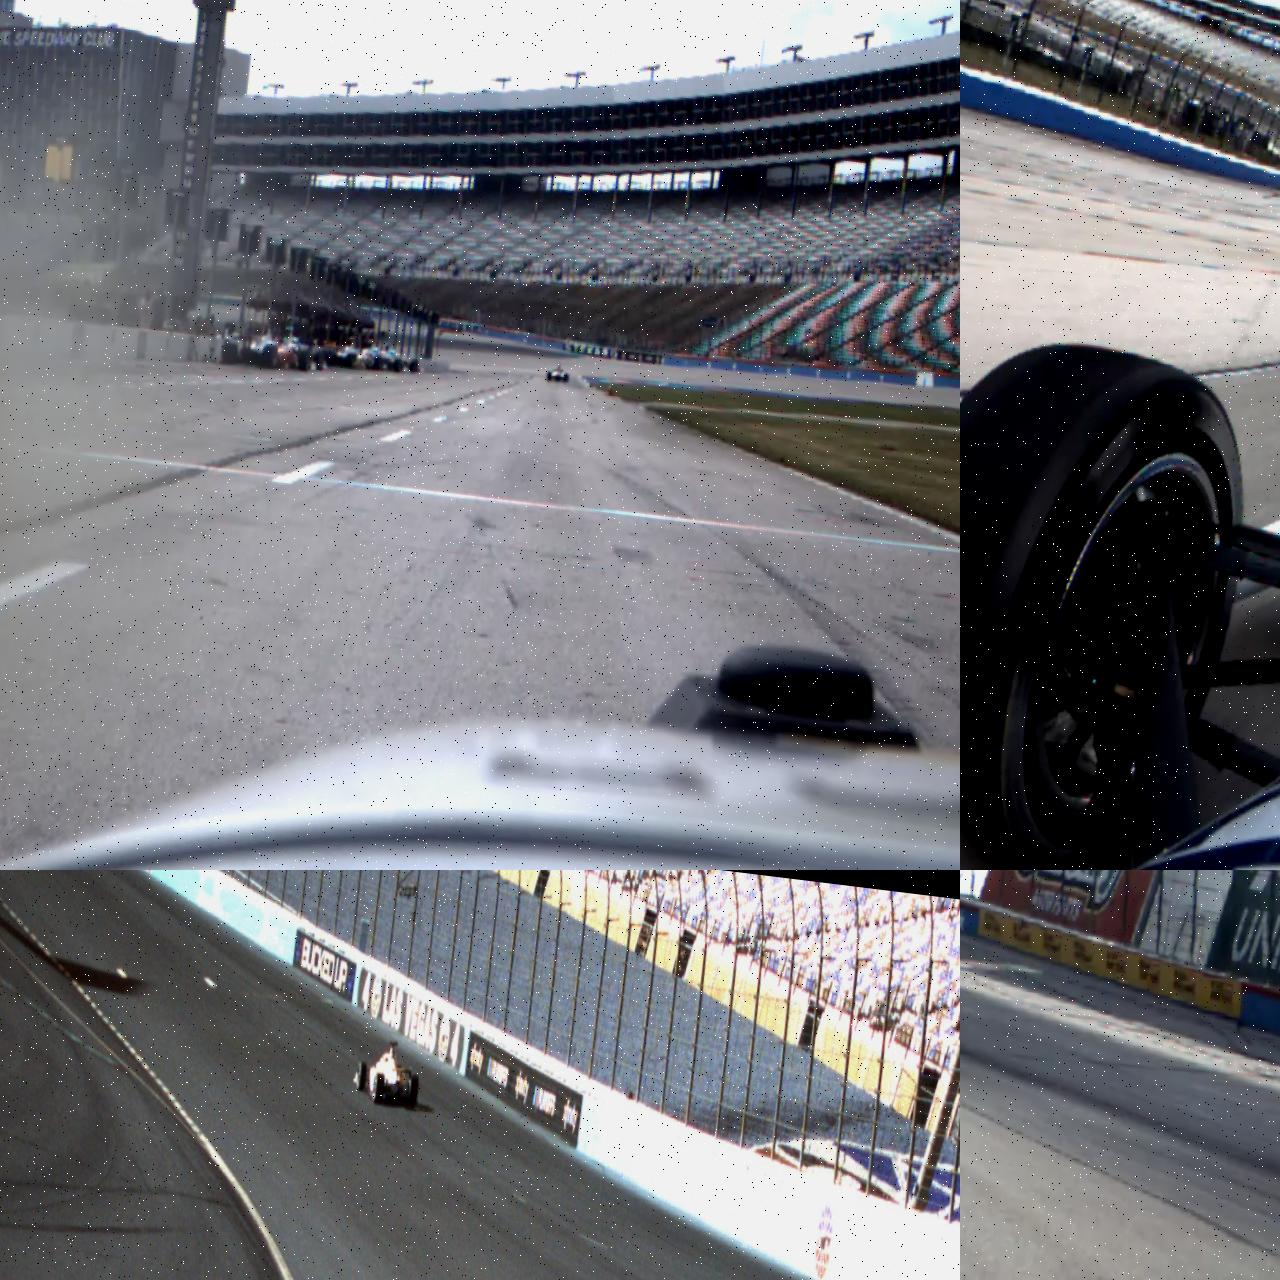AV: (350, 1036, 423, 1109), (546, 362, 570, 383)
Wheel: (960, 324, 1266, 870), (406, 1075, 420, 1109), (261, 343, 279, 369), (372, 1073, 384, 1104), (355, 1062, 368, 1092), (222, 341, 238, 365), (298, 350, 312, 372), (313, 350, 325, 372), (393, 359, 404, 374), (409, 359, 420, 374), (373, 358, 382, 372), (564, 374, 568, 382), (546, 372, 551, 380)
